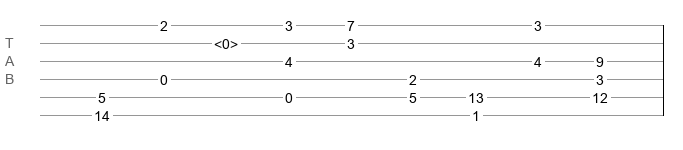0: (160, 72, 168, 82), (285, 90, 293, 100)
1: (472, 108, 480, 118)
12: (592, 90, 608, 100)
13: (468, 90, 484, 100)
14: (94, 108, 110, 118)
2: (160, 18, 168, 28), (409, 72, 417, 82)
3: (285, 18, 293, 28), (347, 36, 355, 46), (534, 18, 542, 28), (596, 72, 604, 82)
4: (285, 54, 293, 64), (534, 54, 542, 64)
5: (98, 90, 106, 100), (409, 90, 417, 100)
7: (347, 18, 355, 28)
9: (596, 54, 604, 64)
harmonic: (214, 36, 238, 46)
